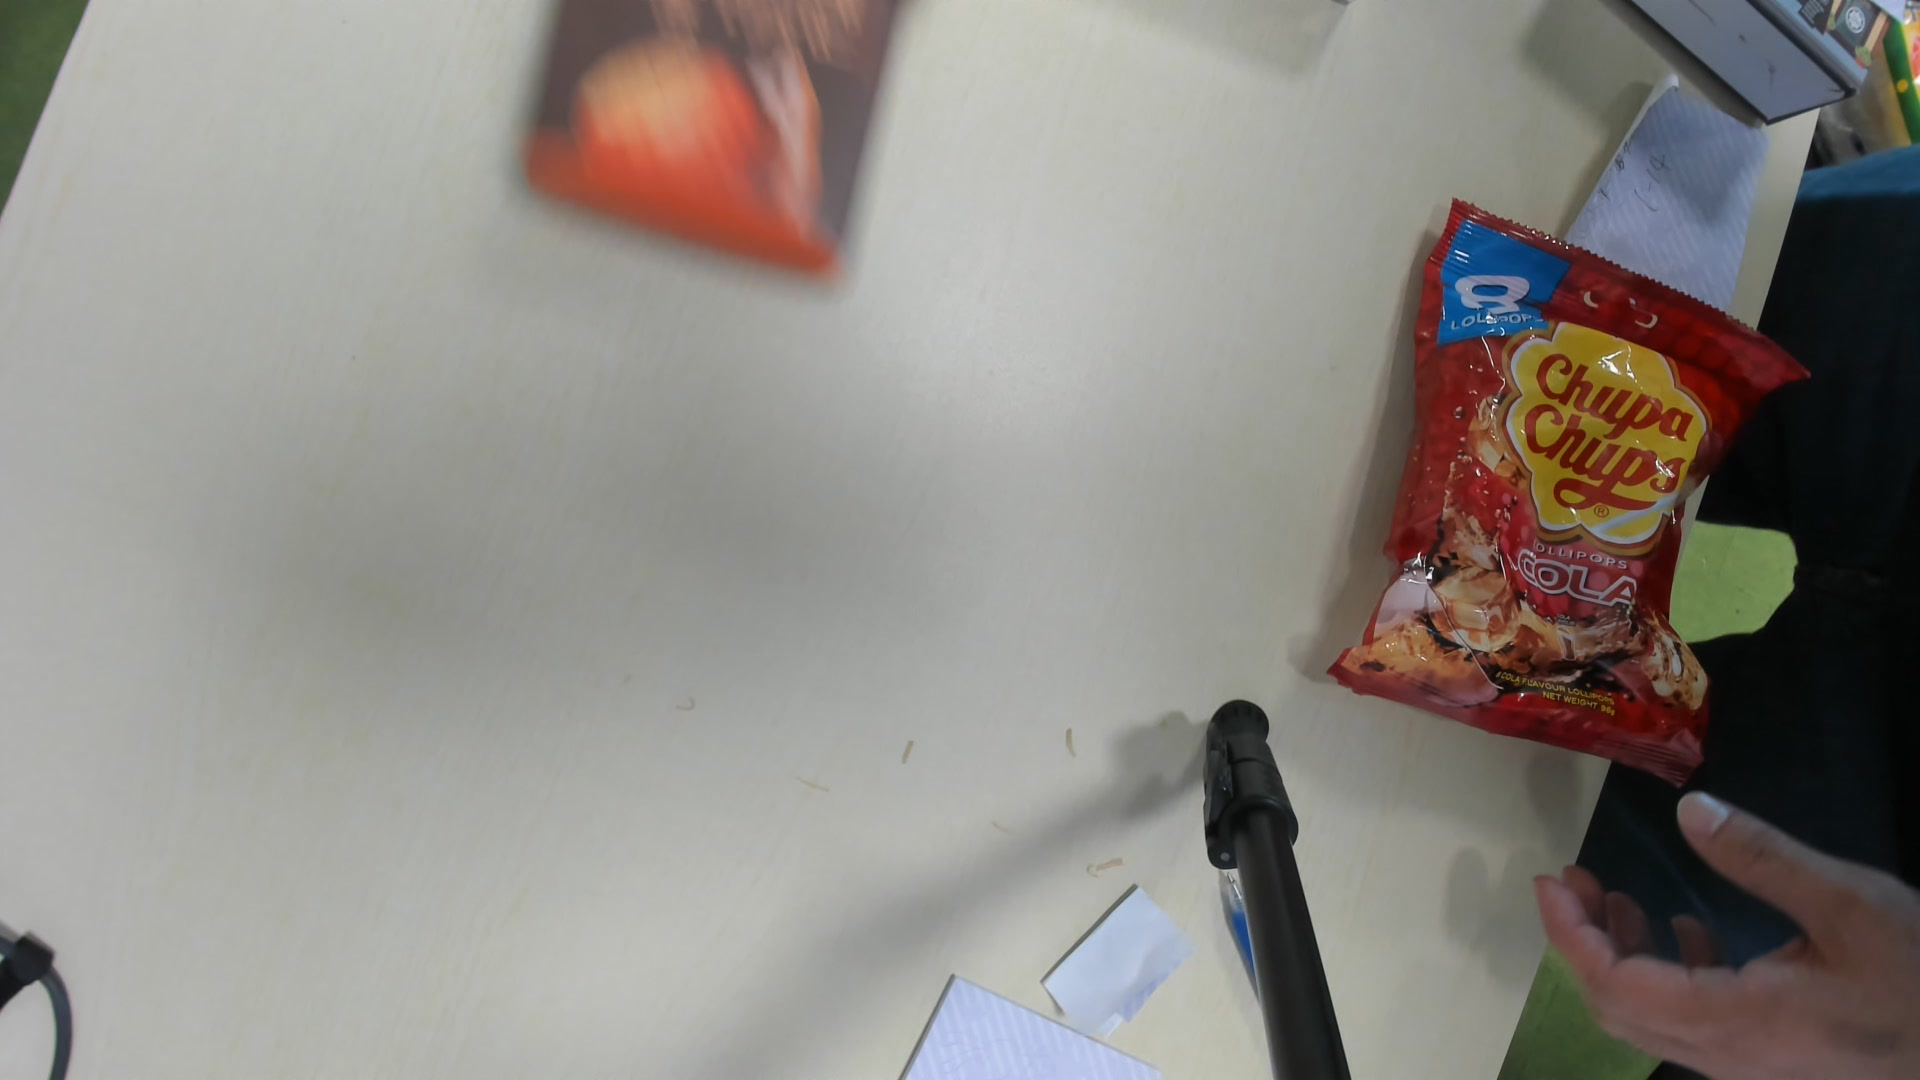SweetsChocolatesOthers_0-99g_NonHalal_Nonhealthy: (1344, 190, 1799, 787)
